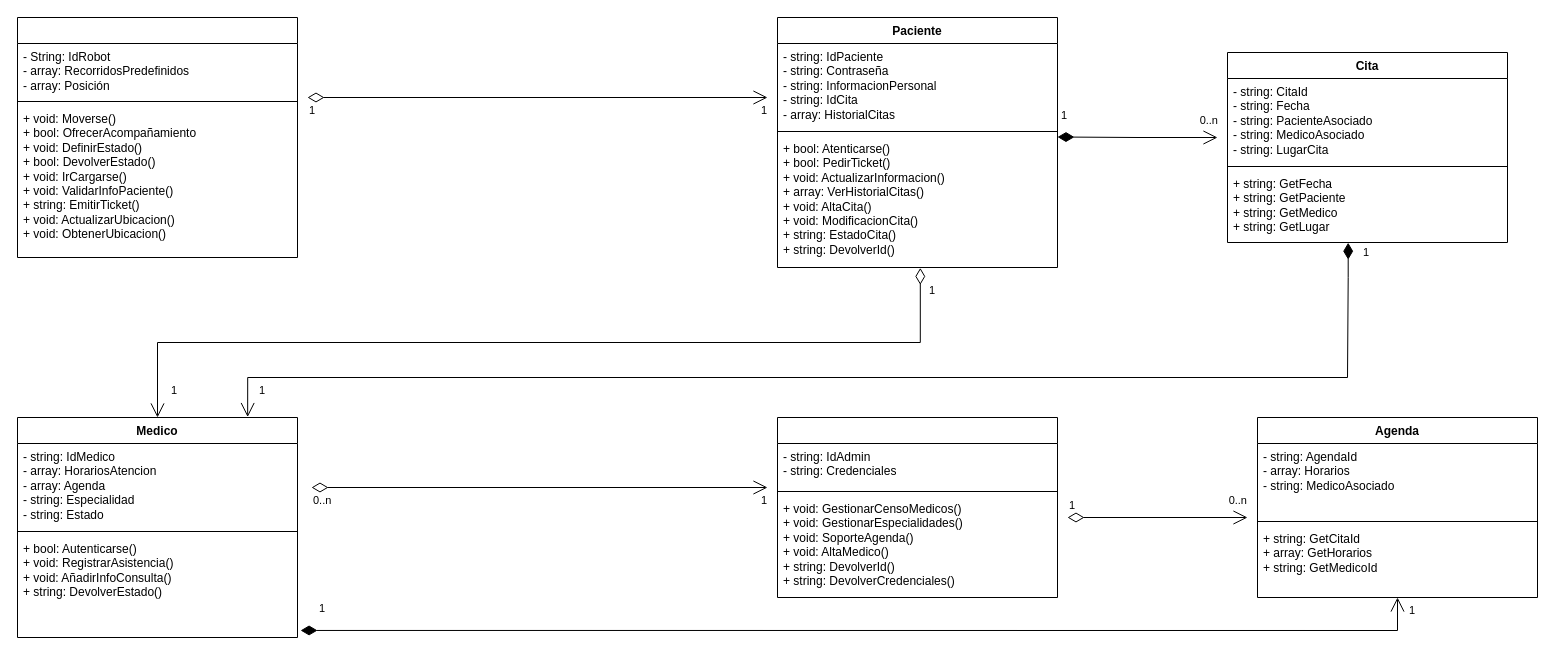
This 1555x665 diagram has some shape labels left out. The shapes that lost their labels are listed below. From the top down, each one's box as (x1, y1, x2, y2) in pixels, then its label:
(16, 16, 298, 258): RobotAsistente
(776, 416, 1058, 598): Administrador
